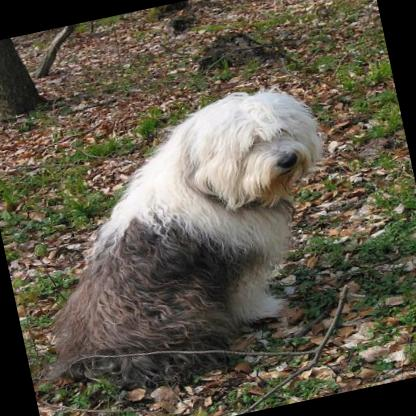Old_English_sheepdog: (0, 68, 373, 416)
